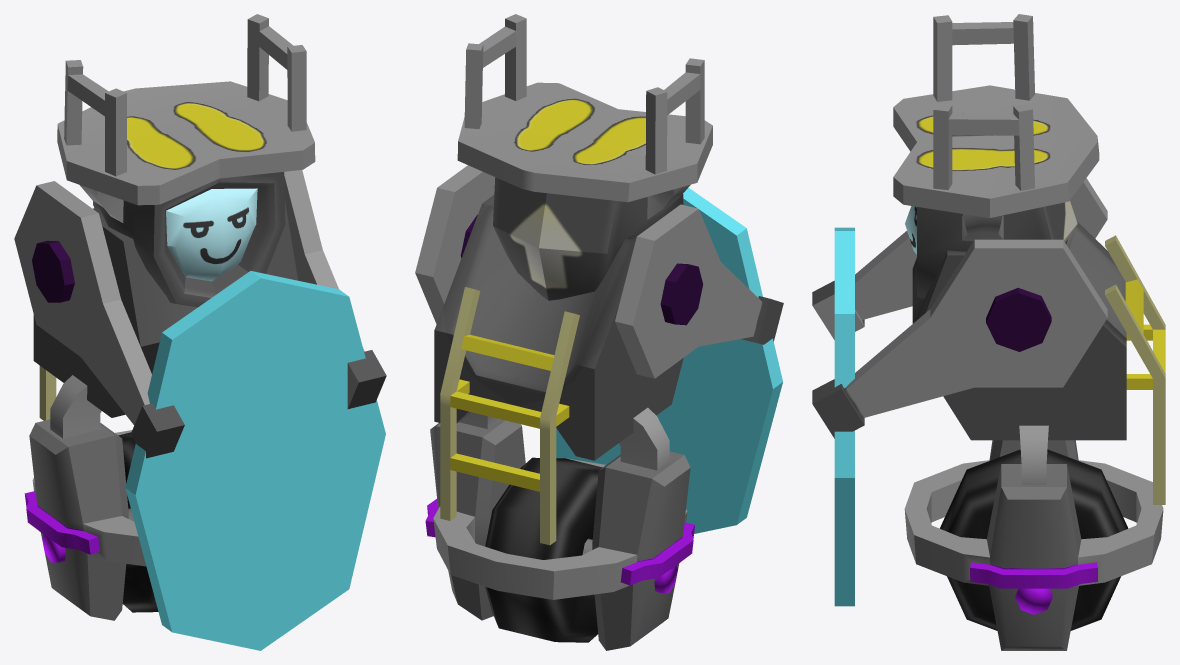
Rendered from Robot.fbx.
3 views of the same model, side by side, from view 1: azimuth 30°, elevation 25°; view 2: azimuth 150°, elevation 25°; view 3: azimuth 270°, elevation 25° (orthographic).
Visible parts, largest first — view 1: polySurface3; view 2: polySurface3; view 3: polySurface3.
Boxes of the visible parts, x1=… form: polySurface3: x1=14, y1=14, x2=386, y2=650; polySurface3: x1=415, y1=14, x2=783, y2=650; polySurface3: x1=812, y1=14, x2=1165, y2=650.
Bounding box in the file's own units: 2.06 × 4.47 × 2.52.
Materials: 1 (1 with a texture image).
